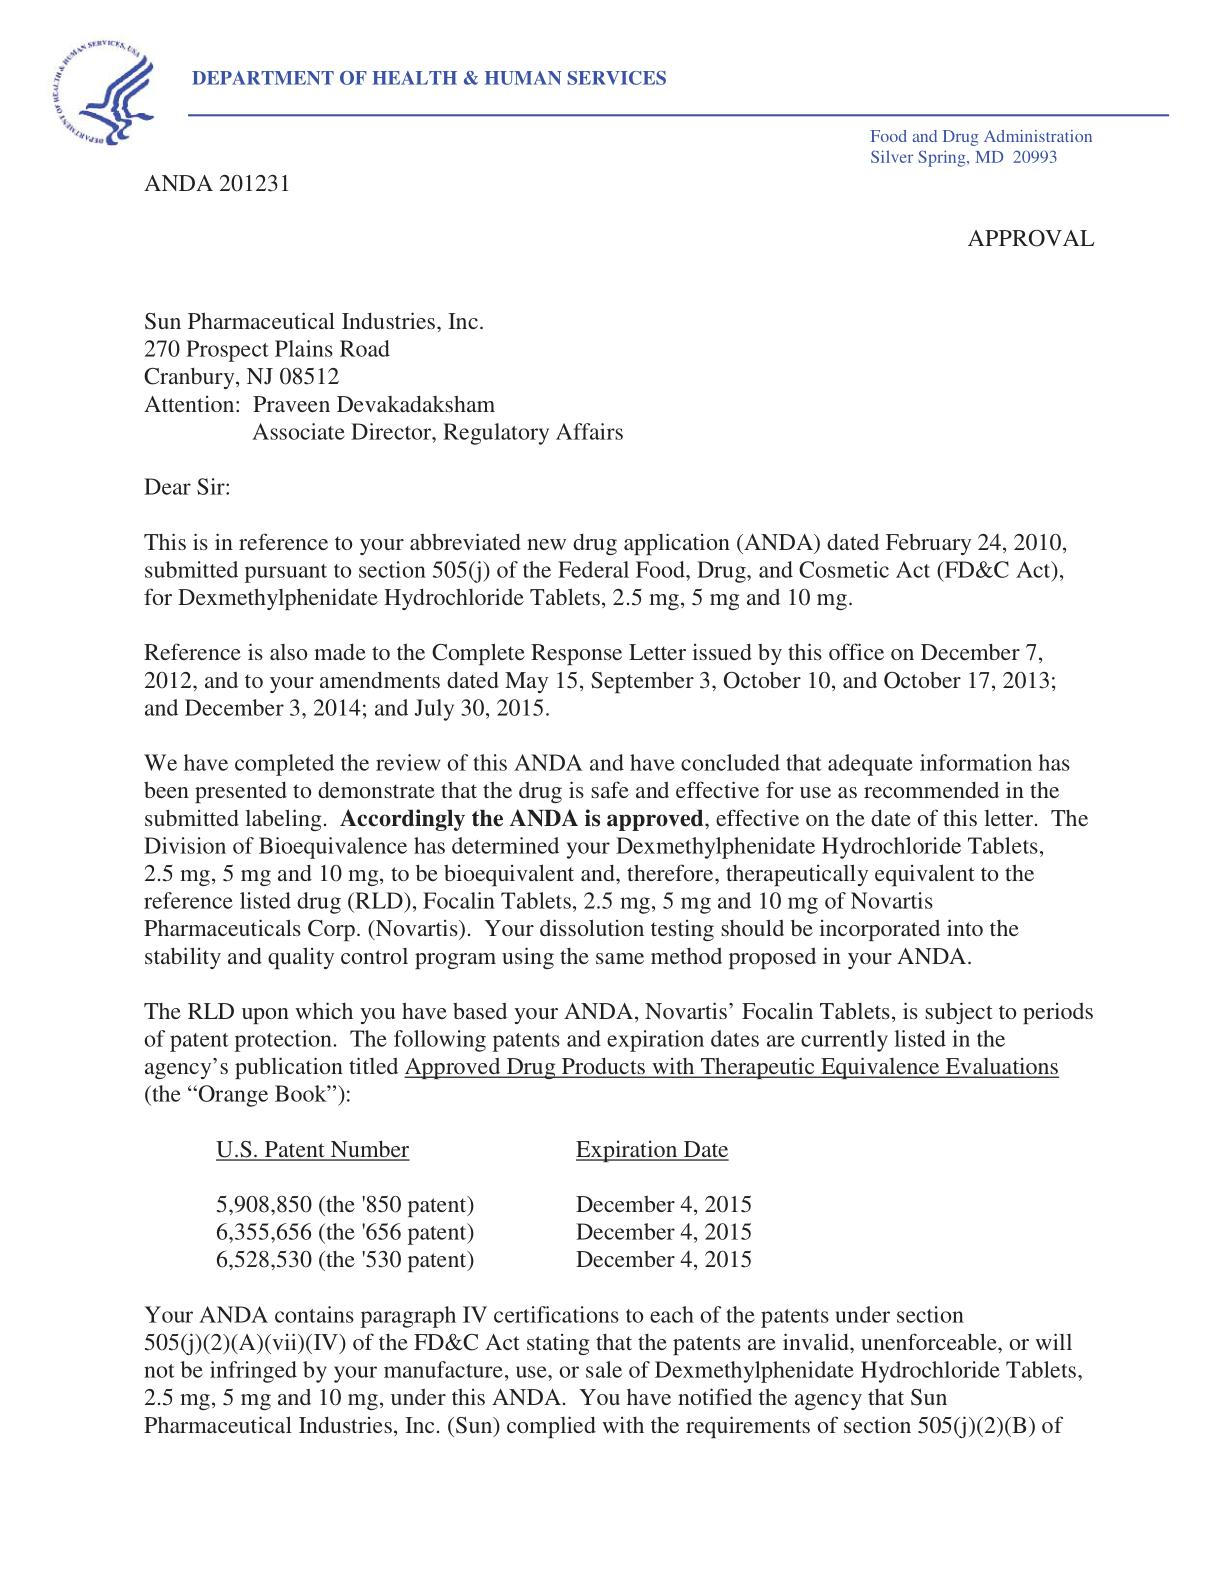nolines: (215, 1134, 756, 1273)
